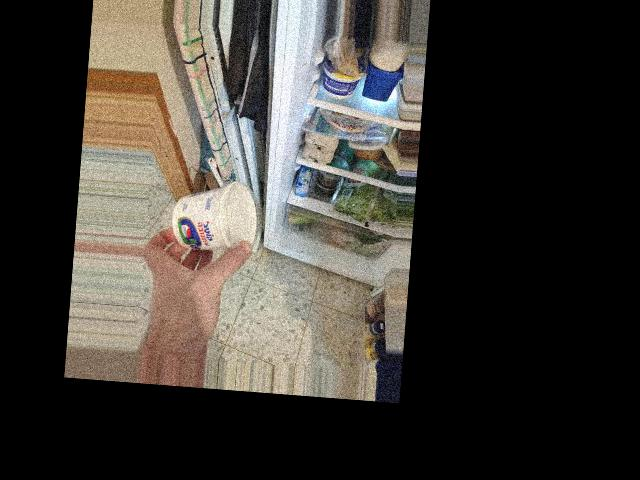cotage: (166, 178, 257, 261)
